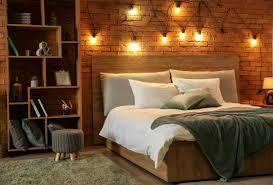bed: (99, 66, 270, 183)
light: (84, 25, 110, 54), (128, 24, 141, 52), (261, 75, 273, 105), (126, 0, 143, 19), (176, 23, 189, 45), (195, 25, 207, 43), (157, 28, 168, 44), (250, 32, 260, 46), (174, 0, 183, 14)
table: (48, 128, 83, 162)
